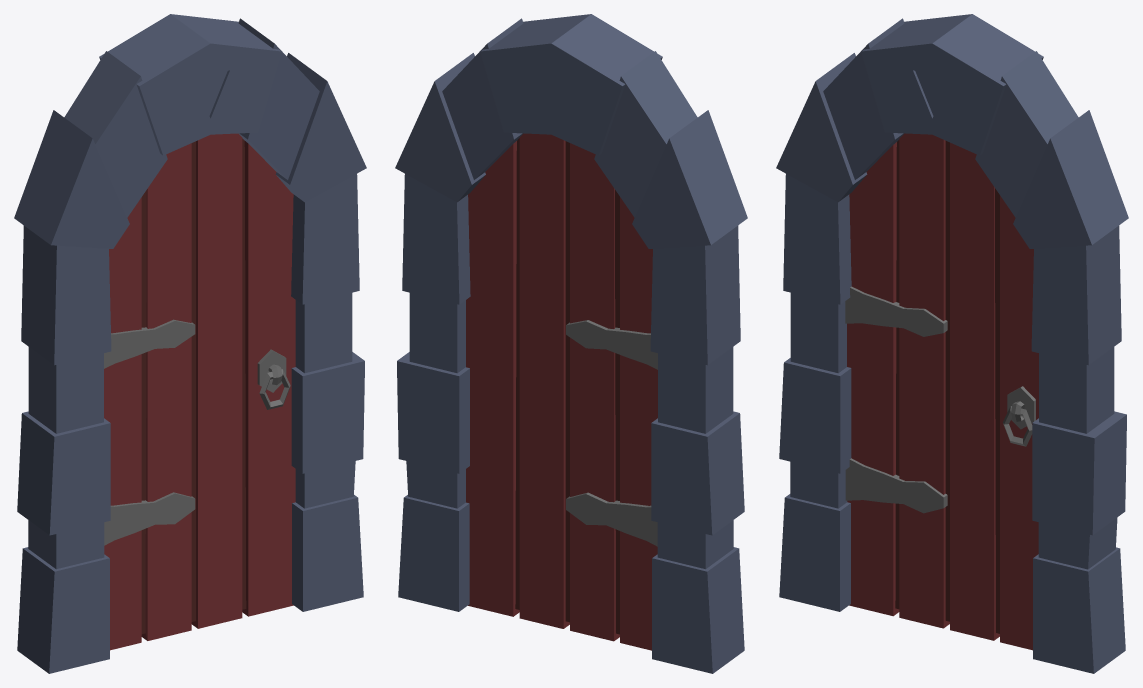
The model's file is Door.fbx.
3 views of the same model, side by side, from view 1: azimuth 30°, elevation 25°; view 2: azimuth 150°, elevation 25°; view 3: azimuth 330°, elevation 25° (orthographic).
Visible parts, largest first — view 1: door.013; view 2: door.013; view 3: door.013.
Boxes of the visible parts, bbox=[...] form: door.013: bbox=[14, 14, 366, 673]; door.013: bbox=[395, 14, 747, 673]; door.013: bbox=[776, 14, 1128, 673].
Size of the model in its own units: 1.06 by 1.91 by 0.234.
